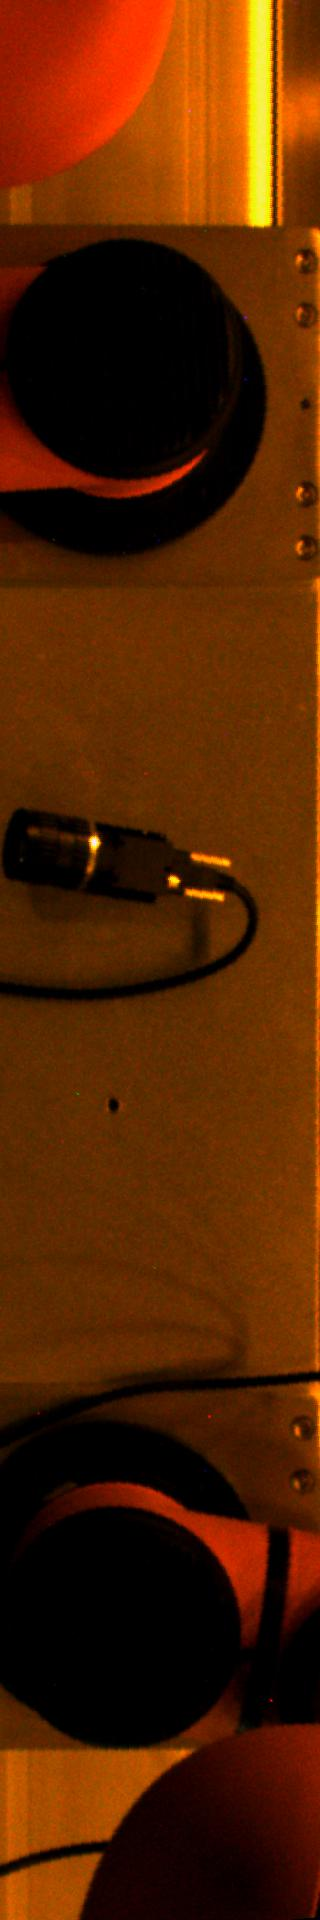keyPoint_2: (97, 1089, 128, 1119)
